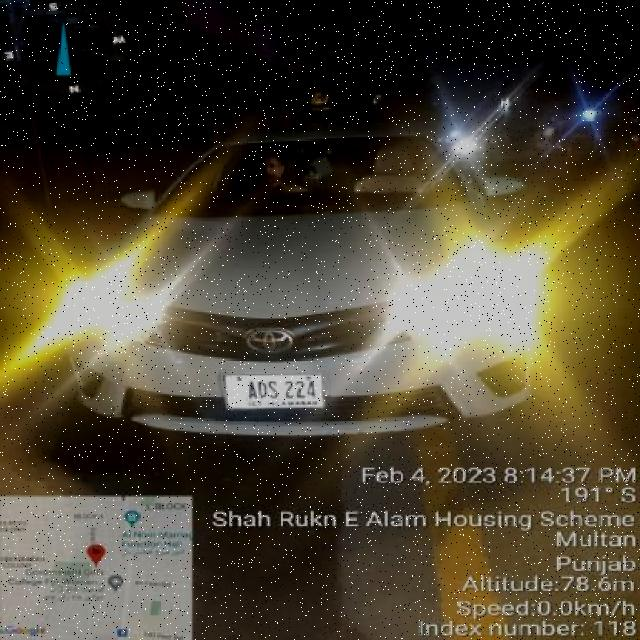licenseplate: (213, 367, 342, 415)
